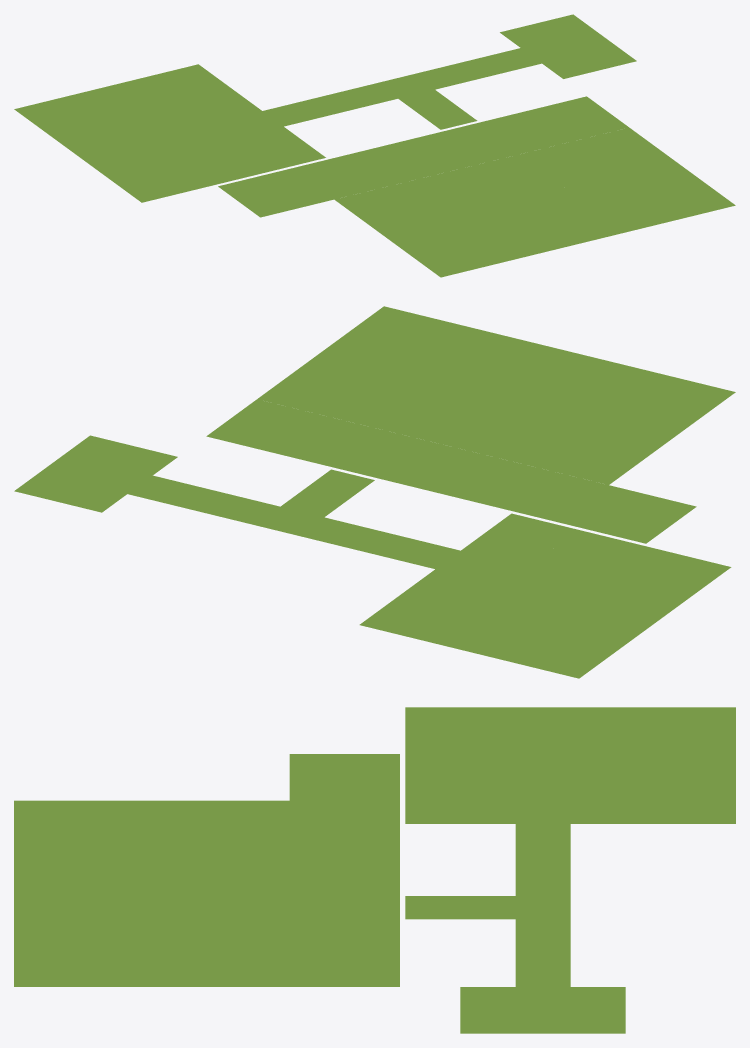
The model's file is Tetto_3.fbx.
The picture shows the model from 3 angles, top to bottom: view 1: azimuth 30°, elevation 25°; view 2: azimuth 150°, elevation 25°; view 3: azimuth 270°, elevation 25°; orthographic projection. The views are drawn at different scales.
Parts seen in each view (by area): view 1: Tetto; view 2: Tetto; view 3: Tetto.
Part boxes in pixels (<box>): Tetto: <box>14,14,735,277</box>; Tetto: <box>14,306,735,678</box>; Tetto: <box>14,707,735,1033</box>.
Size of the model in its own units: 7000 by 0.00206 by 6551.
